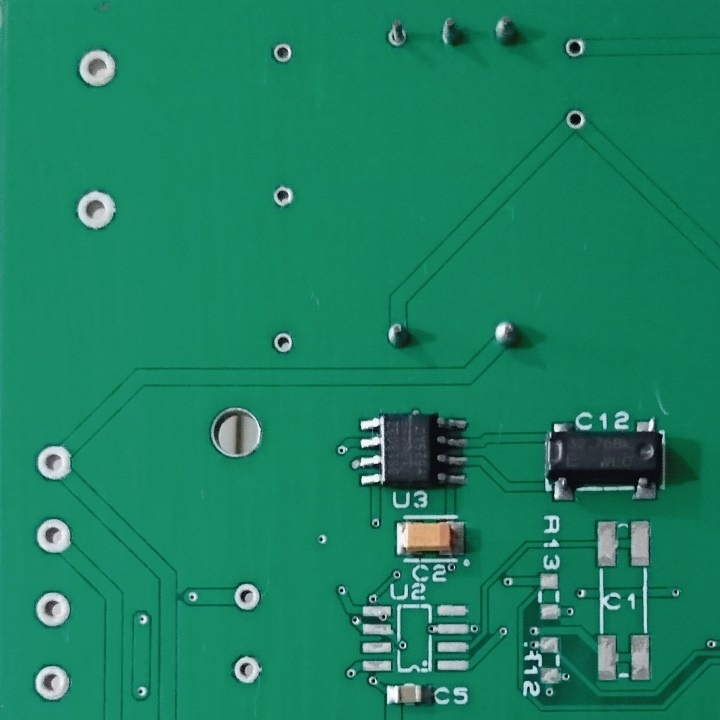F: (73, 187, 121, 235), (73, 46, 121, 90), (33, 512, 75, 558), (33, 441, 77, 484), (30, 663, 76, 703), (32, 589, 73, 631), (228, 652, 264, 685), (231, 582, 263, 617), (384, 20, 414, 52), (271, 329, 297, 356), (271, 184, 299, 209), (563, 35, 588, 63), (564, 106, 588, 132), (270, 43, 294, 66)
